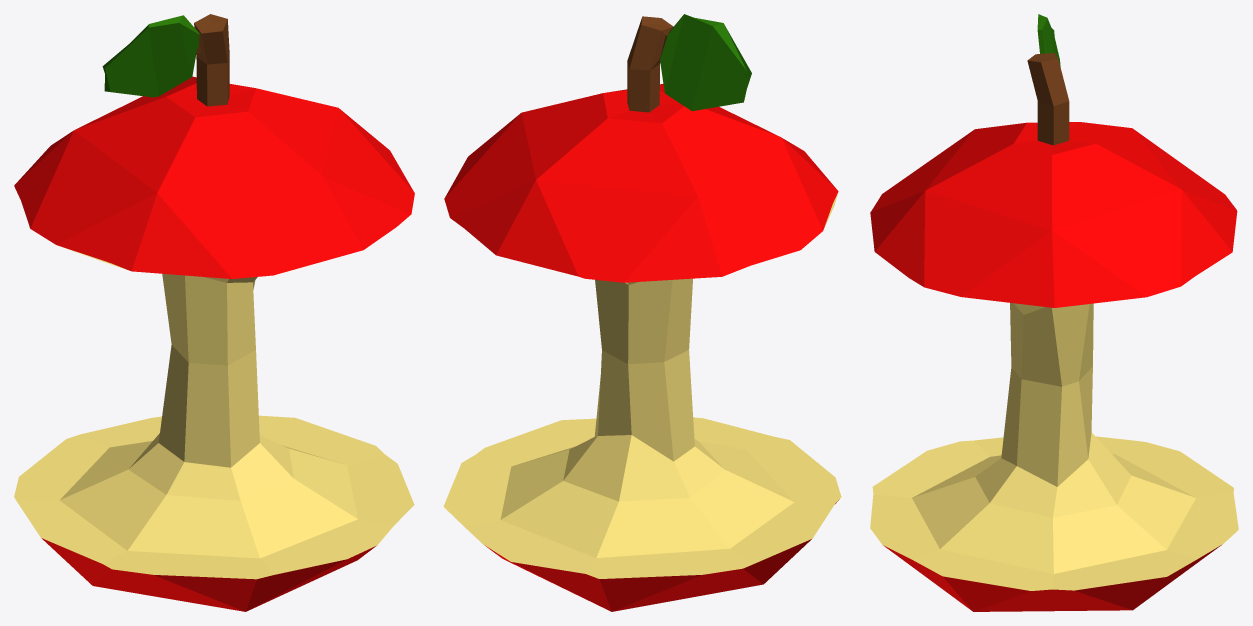
The model's file is AppleCore.obj.
3 views of the same model, side by side, from view 1: azimuth 30°, elevation 25°; view 2: azimuth 150°, elevation 25°; view 3: azimuth 270°, elevation 25° (orthographic). The views are drawn at different scales.
Visible parts, largest first — view 1: AppleCore_Icosphere.002; view 2: AppleCore_Icosphere.002; view 3: AppleCore_Icosphere.002.
Boxes of the visible parts, x1,y1,x2,y2 form: AppleCore_Icosphere.002: (14,14,414,611); AppleCore_Icosphere.002: (443,14,841,611); AppleCore_Icosphere.002: (870,14,1238,611).
Size of the model in its own units: 0.0351 by 0.0566 by 0.0341.
Materials: 1 (1 with a texture image).
